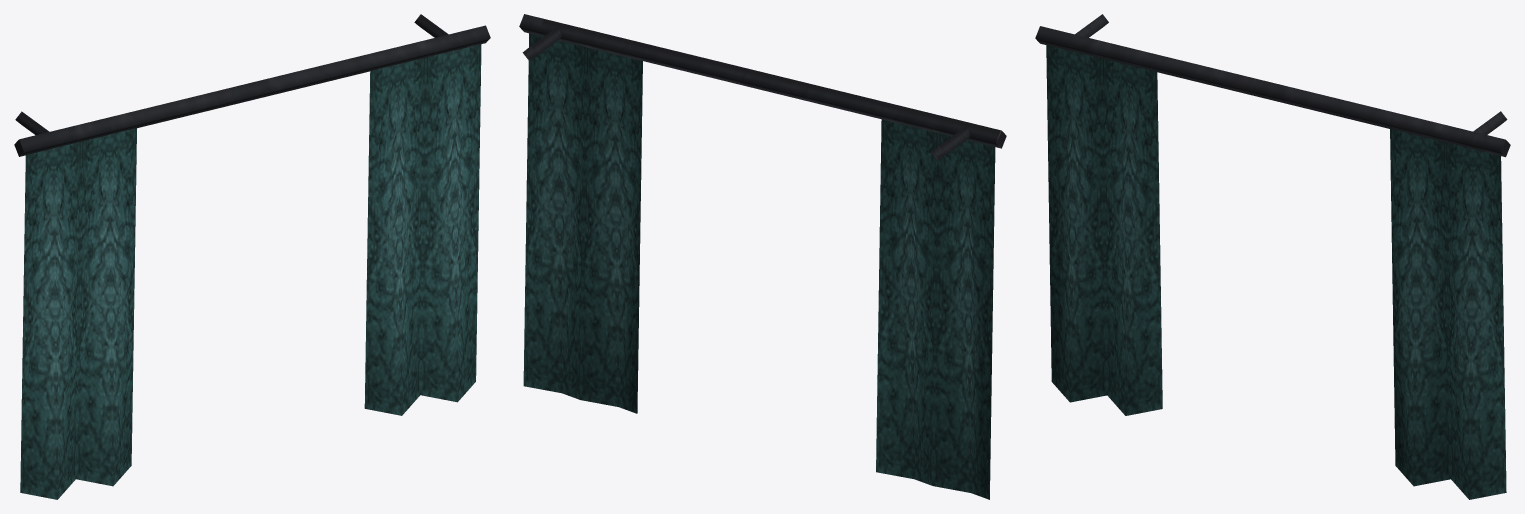
Rendered from Curtains_E.fbx.
3 views of the same model, side by side, from view 1: azimuth 30°, elevation 25°; view 2: azimuth 150°, elevation 25°; view 3: azimuth 330°, elevation 25° (orthographic). The views are drawn at different scales.
Visible parts, largest first — view 1: Curtains_E; view 2: Curtains_E; view 3: Curtains_E.
Part boxes in pixels (x1,y1,x2,y2): Curtains_E: (14, 14, 490, 499); Curtains_E: (519, 14, 1006, 499); Curtains_E: (1035, 14, 1510, 499).
Bounding box in the file's own units: 0.3604 × 0.2699 × 0.0466.
